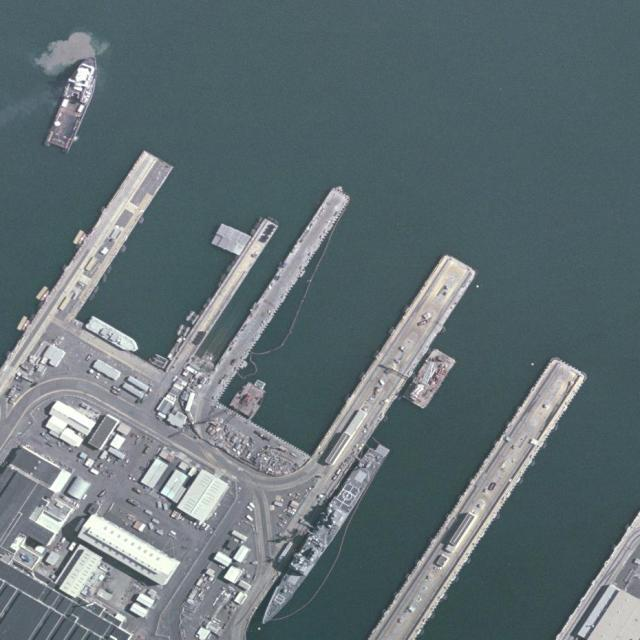Cruiser: (257, 446, 384, 629)
Dock: (320, 250, 480, 466), (209, 188, 350, 386), (45, 147, 173, 319), (174, 218, 277, 371)
Other Ship: (43, 47, 107, 156), (85, 314, 144, 357)
